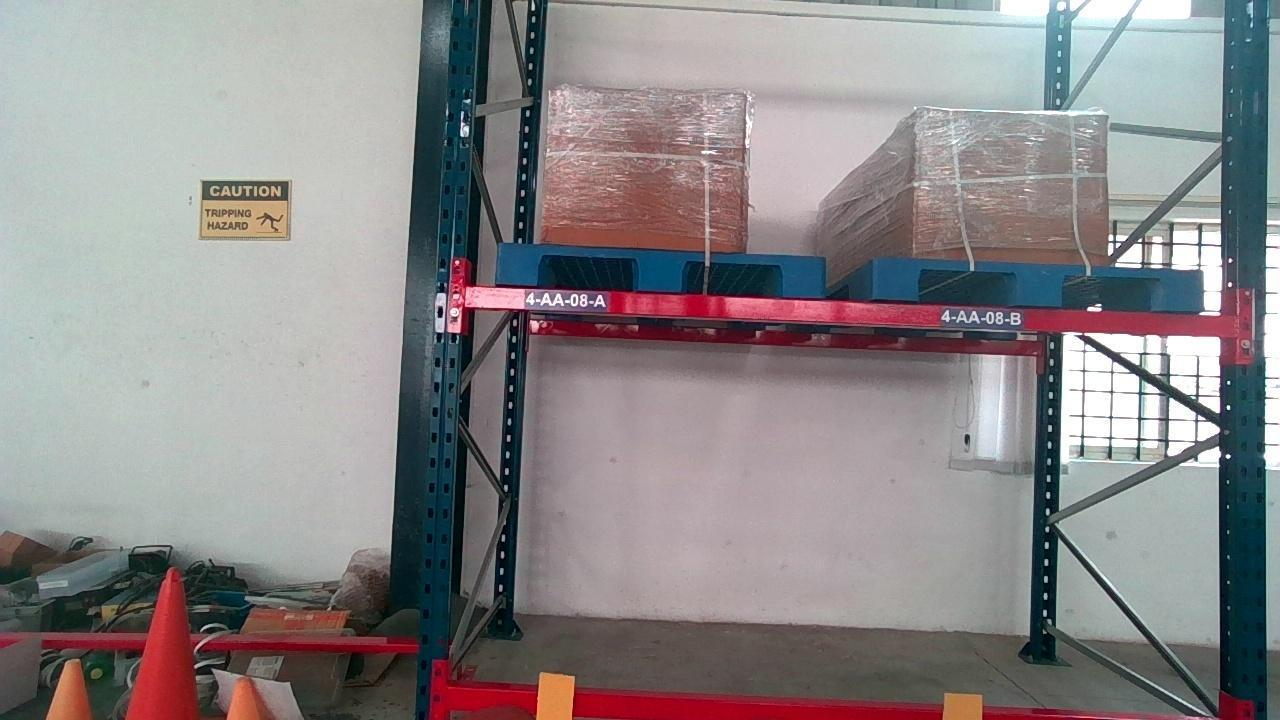h_rack: (466, 285, 1243, 340), (446, 675, 944, 719)
orange_strip: (536, 672, 575, 720), (941, 693, 985, 720)
small_pallet: (496, 247, 822, 290), (876, 261, 1200, 304)
